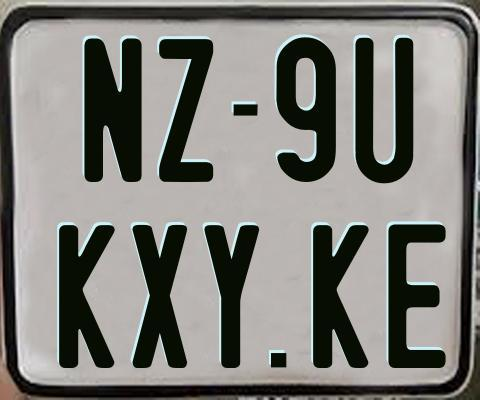9: (273, 34, 339, 181)
E: (386, 221, 444, 366)
K: (56, 223, 118, 366), (312, 224, 372, 370)
N: (83, 38, 143, 183)
U: (354, 36, 416, 185)
X: (133, 225, 188, 371)
Y: (202, 222, 257, 371)
Z: (159, 37, 218, 180)
